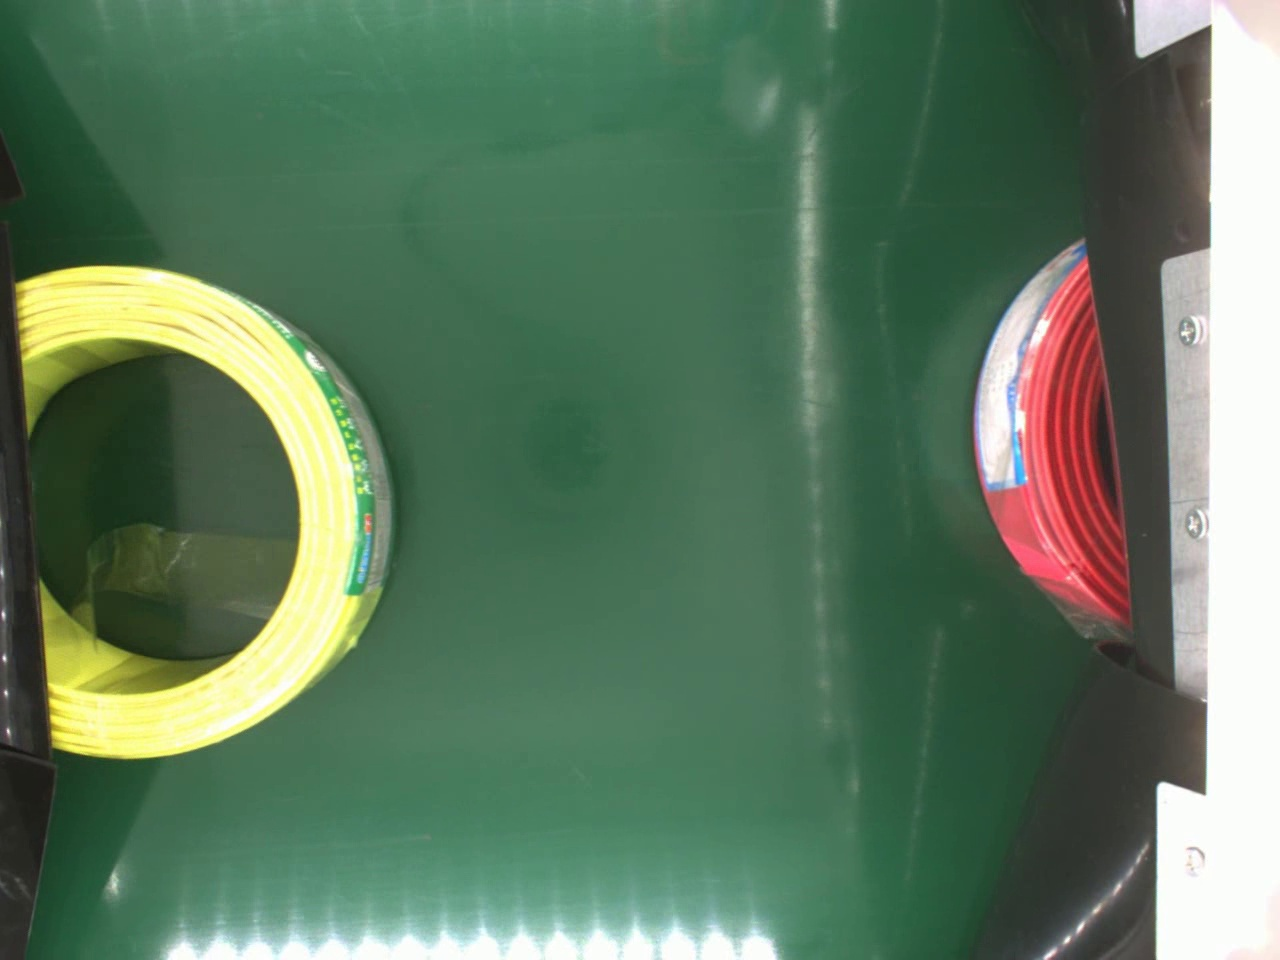yellow: (13, 262, 402, 764)
